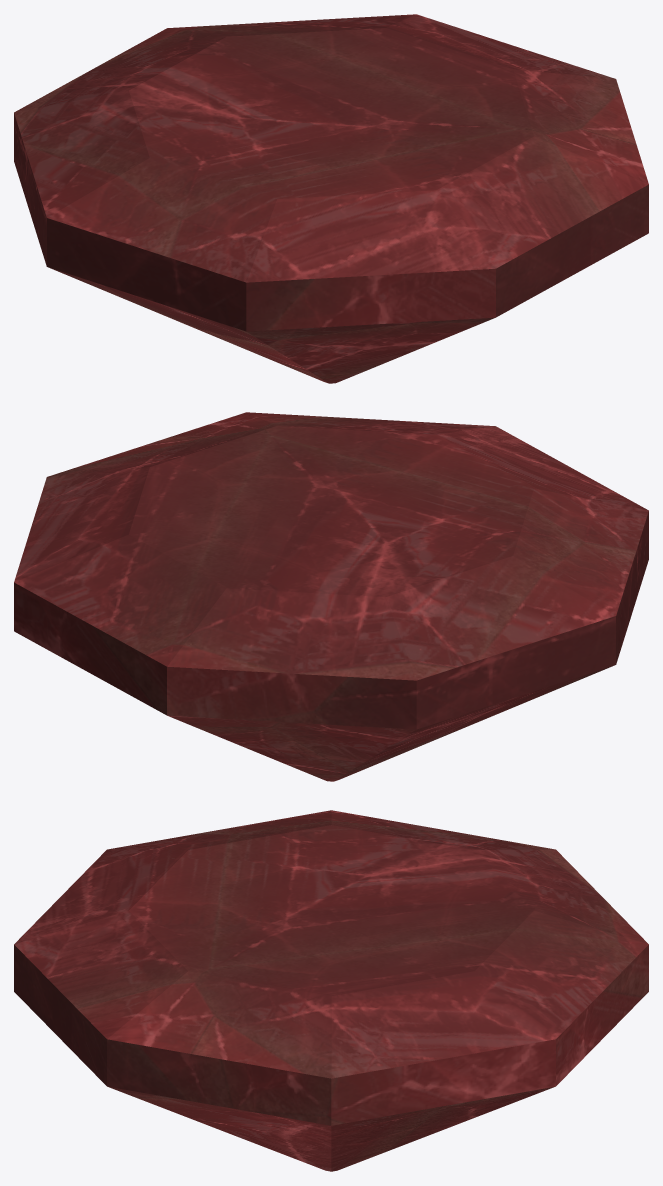
Rendered from Gem.fbx.
3 renders of one model, top to bottom at view 1: azimuth 30°, elevation 25°; view 2: azimuth 150°, elevation 25°; view 3: azimuth 270°, elevation 25°, orthographic. The views are drawn at different scales.
Parts seen in each view (by area): view 1: Cylinder.003; view 2: Cylinder.003; view 3: Cylinder.003.
Part boxes in pixels (bbox=[...]): Cylinder.003: bbox=[14, 14, 648, 383]; Cylinder.003: bbox=[14, 412, 648, 781]; Cylinder.003: bbox=[14, 810, 648, 1171].
Bounding box in the file's own units: 18.76 × 8.39 × 18.76.
